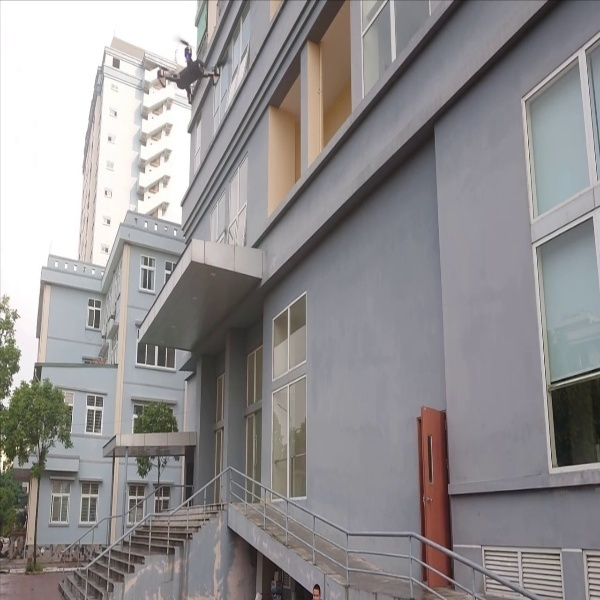drone: (150, 34, 236, 110)
